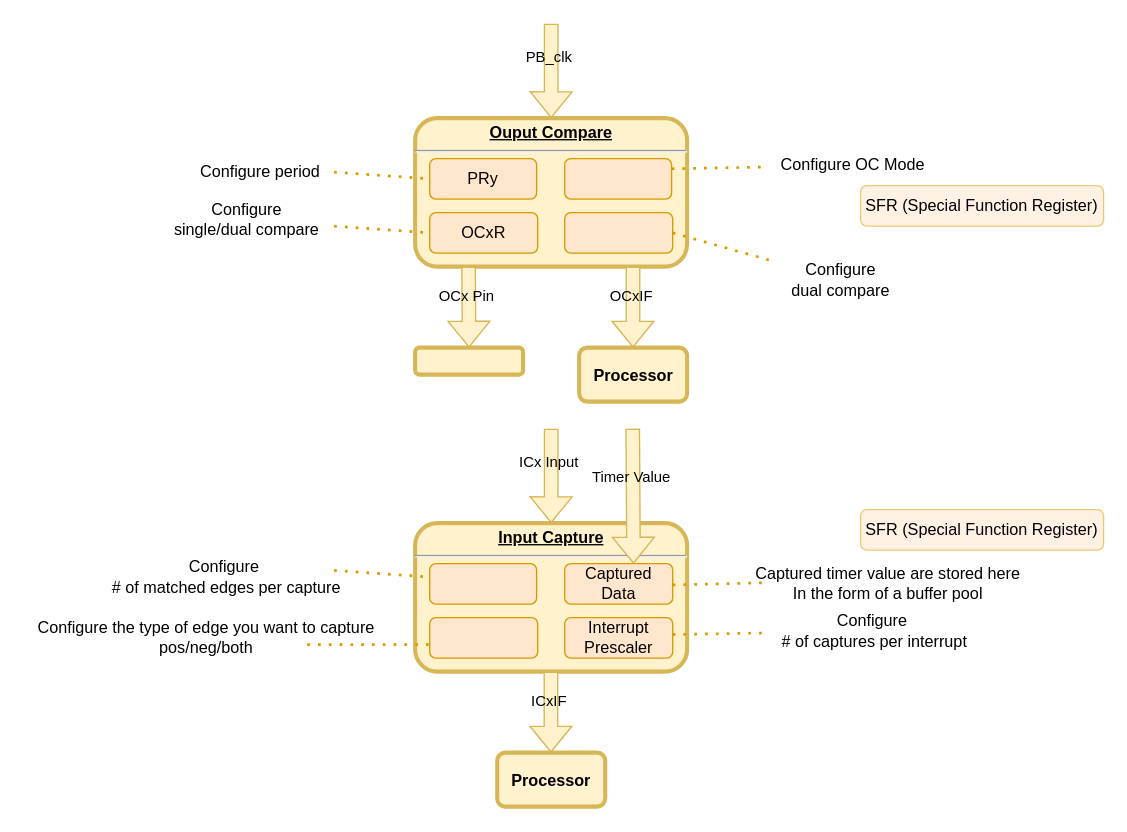
Some shapes in this 1127 by 832 pixel diagram are drawn without their labels. The shapes that lost their labels are listed below. From the top down, each one's centre as x and y in pixels, then its label:
At pixel 617 178: "Mode".
At pixel 618 232: "OCxRS".
At pixel 468 360: "GPIO".
At pixel 482 583: "Capture Prescaler".
At pixel 483 637: "Edge Mode".
